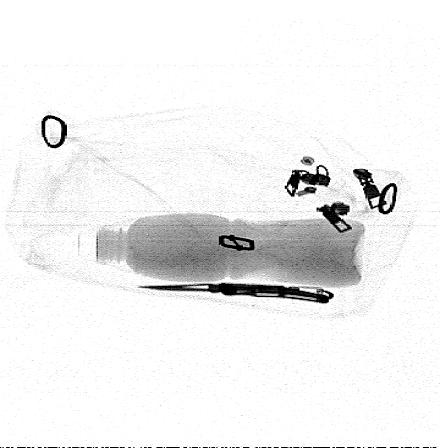Knife: (136, 283, 335, 304)
